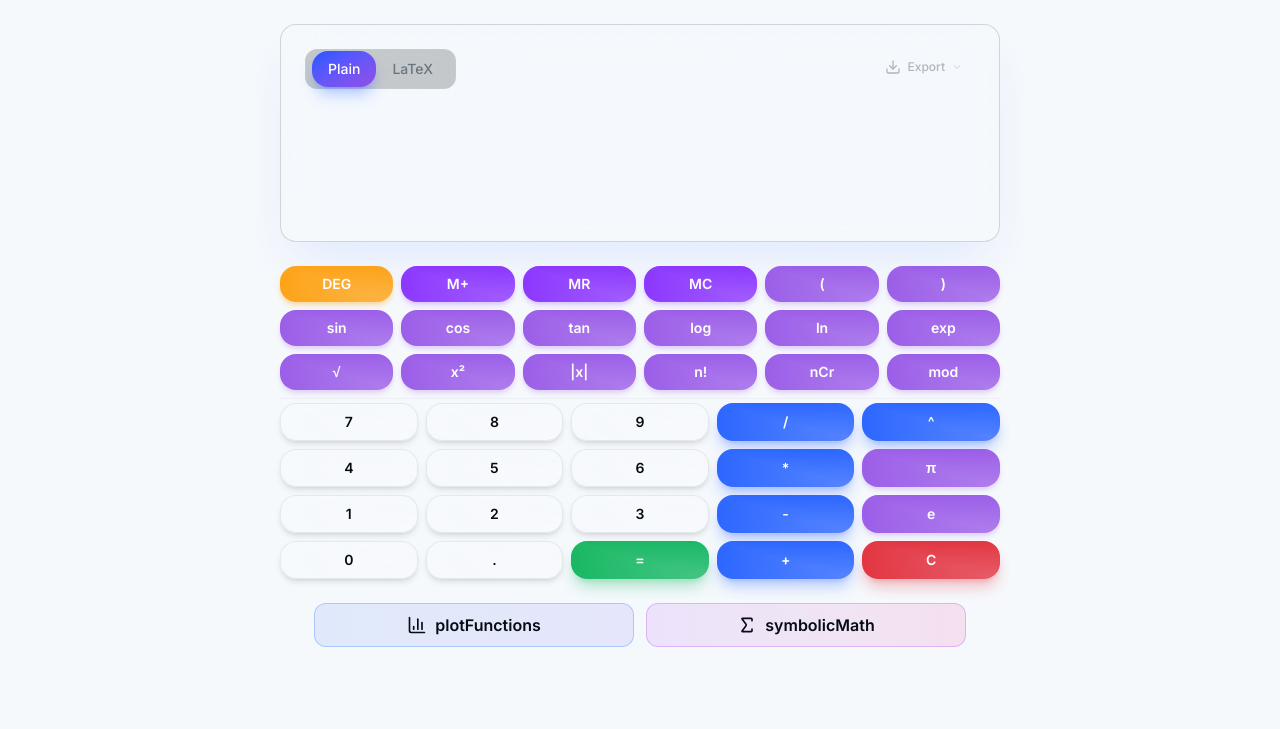
Test case: Calculator Component › performs basic arithmetic calculation
Note: Input: 2 + 2
Click the cell "2".
click(494, 514)  # box [426,495,563,533]
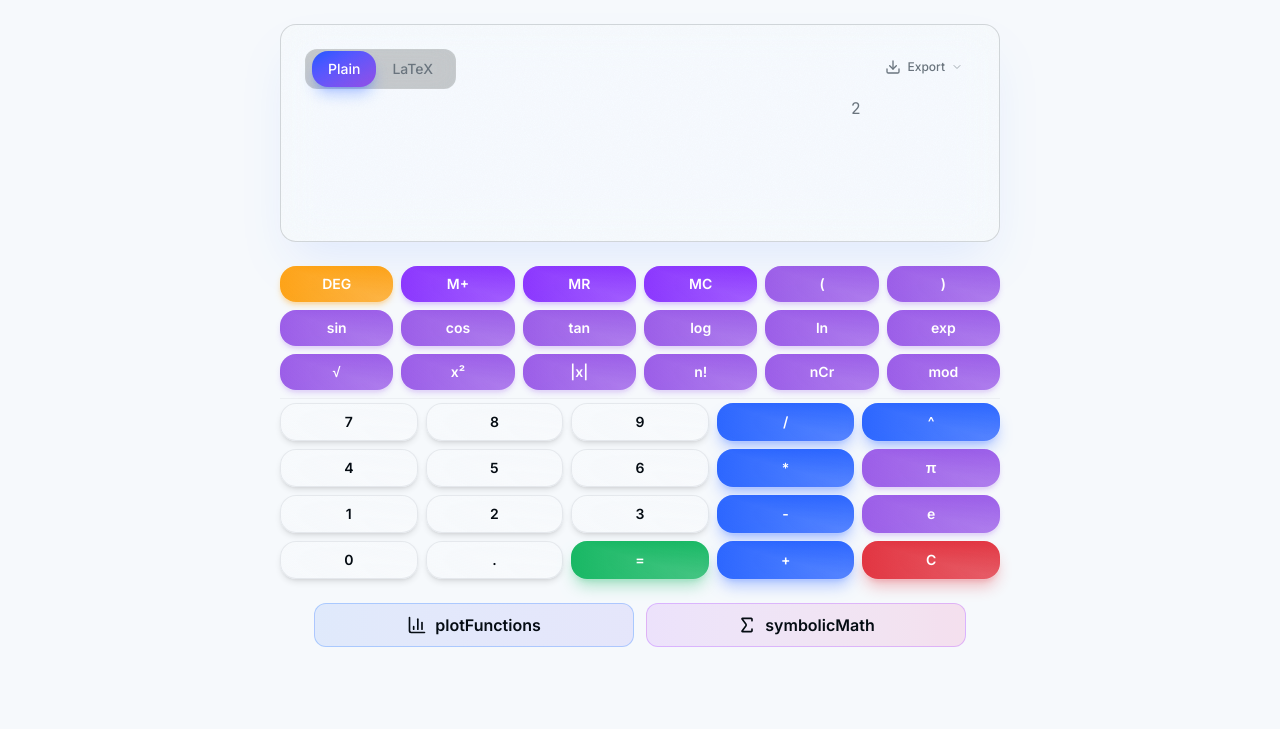
Click the cell named "plus".
click(786, 560)  # box [717,541,854,579]
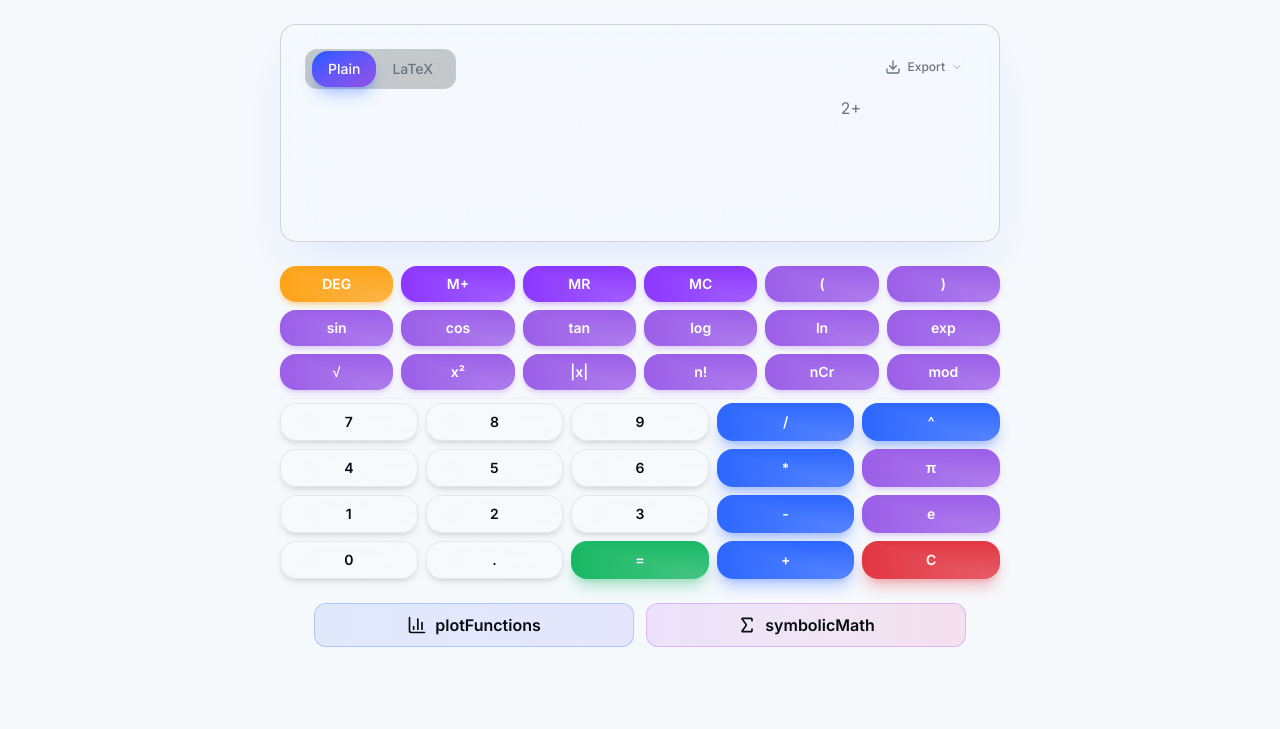
Click the cell "2".
click(494, 514)  # box [426,495,563,533]
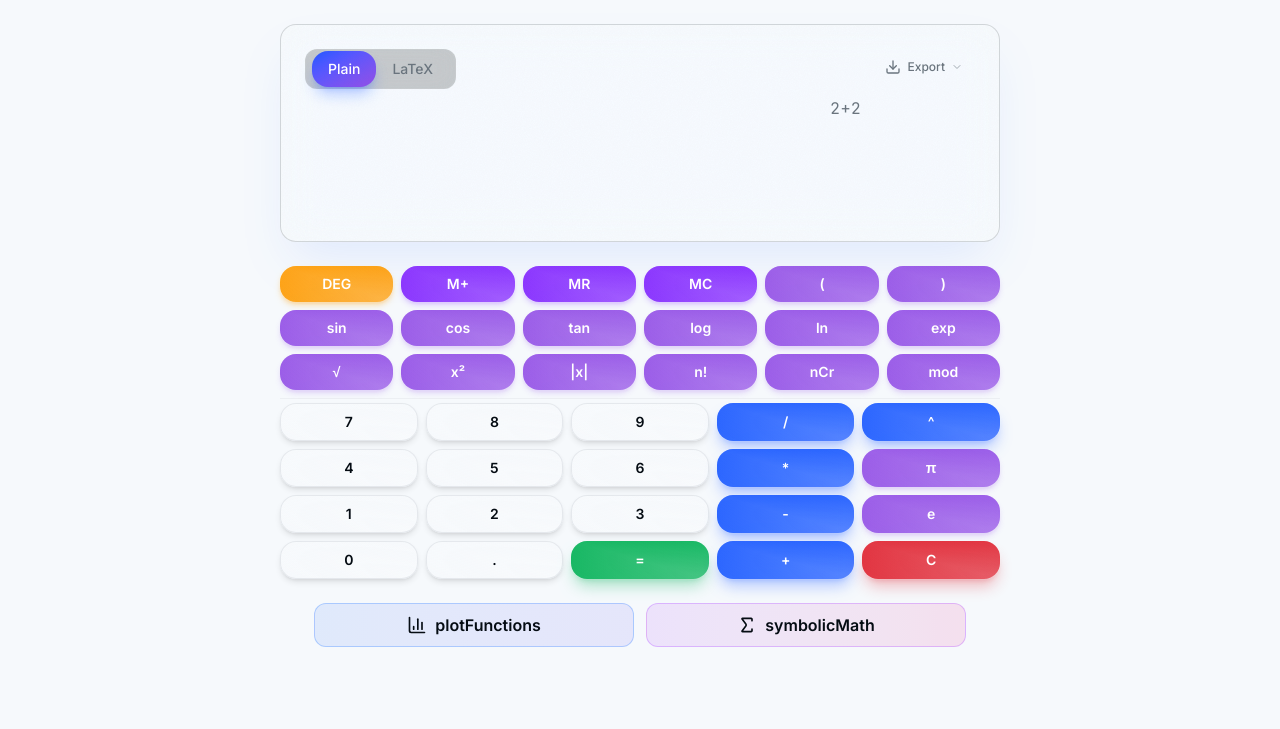
Click the cell named "equals".
click(640, 560)  # box [571,541,709,579]
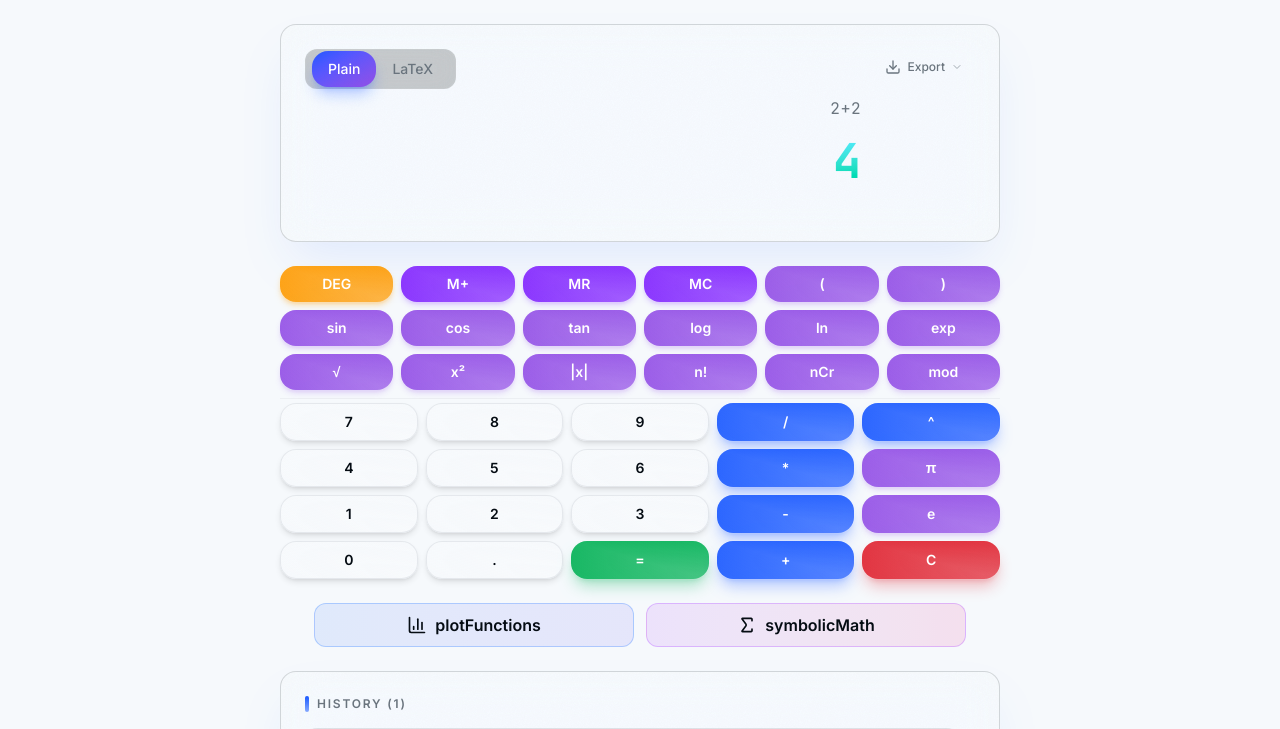
Result: the message named "result:" reads "4" at [833,129,862,192]
